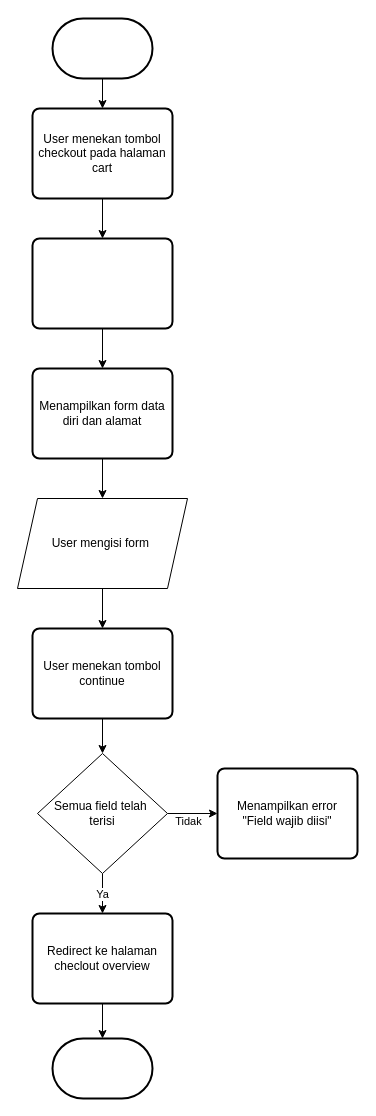
The diagram is 376 pixels wide and 1116 high, and some of its shapes have lost their labels. The shapes that lost their labels are listed below. From the top down, each one's centre as x and y in pixels, then its label:
the point at 102,48: Start
the point at 102,283: User diarahkan ke halaman checkout information
the point at 102,1068: End
